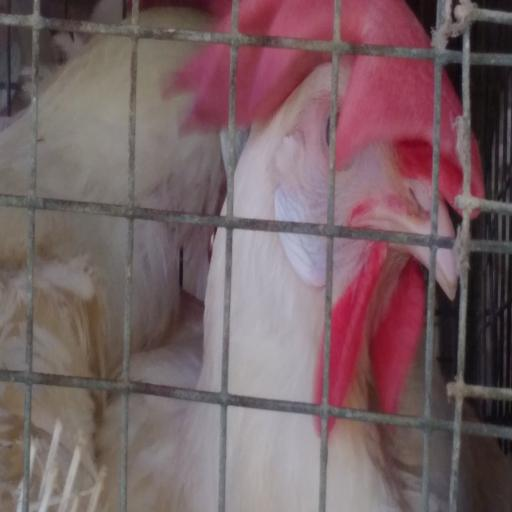healthy: (259, 0, 469, 291)
